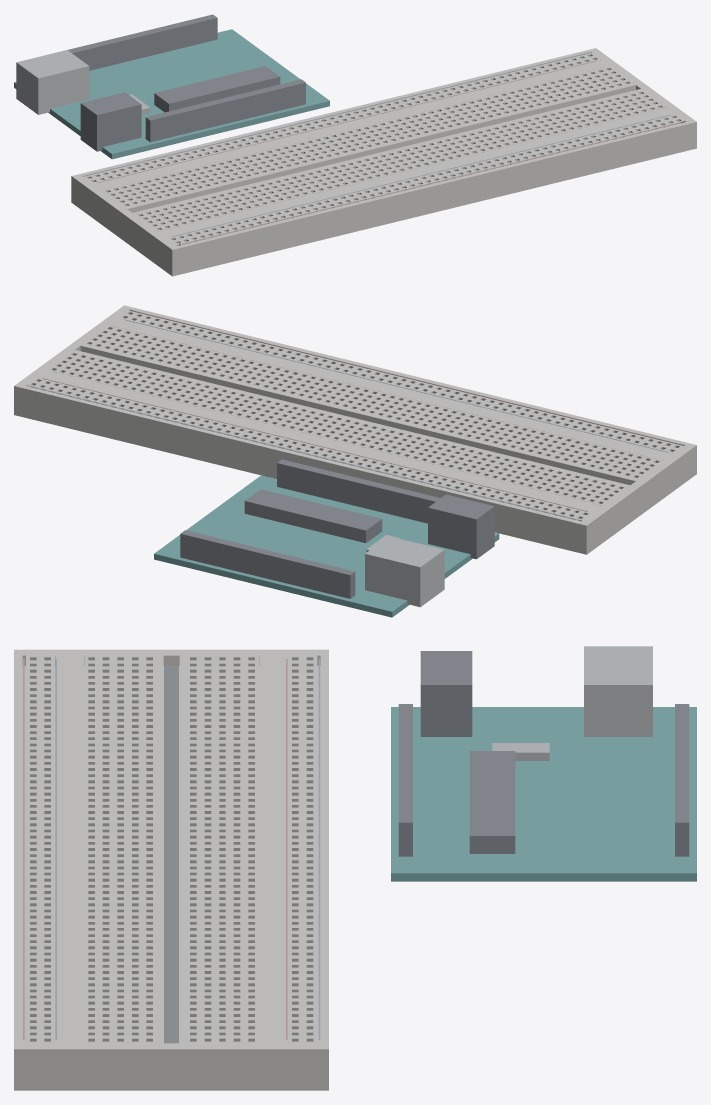
File: step-1.glb
3 renders of one model, top to bottom at view 1: azimuth 30°, elevation 25°; view 2: azimuth 150°, elevation 25°; view 3: azimuth 270°, elevation 25°, orthographic. The views are drawn at different scales.
Parts seen in each view (by area): view 1: breadboard__mesh, uno__mesh; view 2: breadboard__mesh, uno__mesh; view 3: breadboard__mesh, uno__mesh.
Boxes of the visible parts, box(x1,y1,x2,y2) form: breadboard__mesh: box(71, 48, 696, 276); uno__mesh: box(14, 14, 329, 159); breadboard__mesh: box(14, 305, 696, 554); uno__mesh: box(154, 459, 499, 617); breadboard__mesh: box(14, 649, 328, 1090); uno__mesh: box(391, 646, 696, 881).
Size of the model in its own units: 0.165 by 0.0158 by 0.1192.
